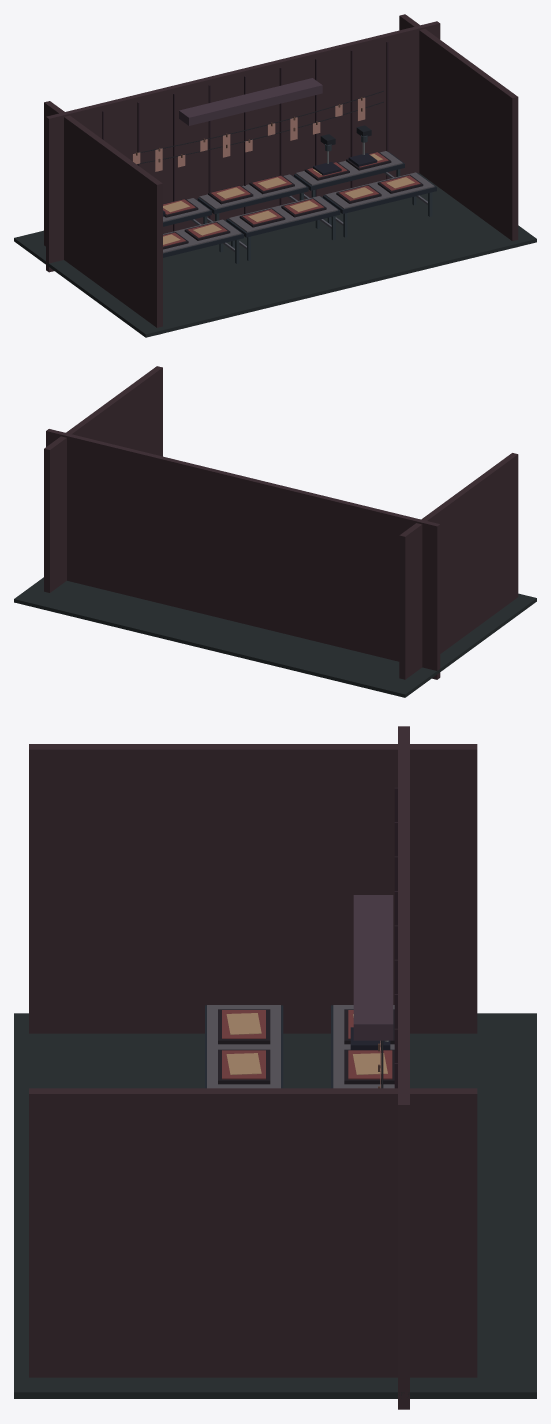
The model's file is DarkroomFixtures.glb.
The picture shows the model from 3 angles, top to bottom: view 1: azimuth 30°, elevation 25°; view 2: azimuth 150°, elevation 25°; view 3: azimuth 270°, elevation 25°; orthographic projection. The views are drawn at different scales.
Parts seen in each view (by area): view 1: DarkroomFixtures; view 2: DarkroomFixtures; view 3: DarkroomFixtures.
Part boxes in pixels (<box>): DarkroomFixtures: <box>14,14,536,337</box>; DarkroomFixtures: <box>14,366,536,697</box>; DarkroomFixtures: <box>14,726,536,1409</box>.
Bounding box in the file's own units: 12 × 4.5 × 7.
